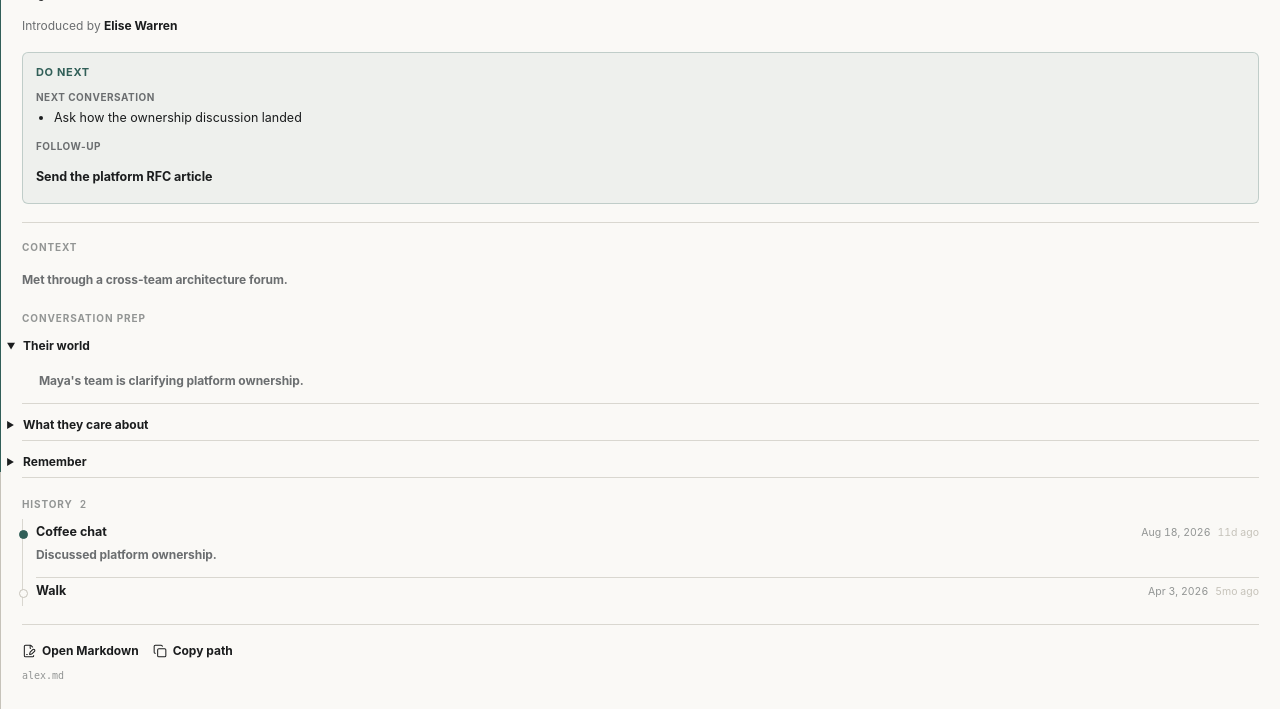
Test case: PersonDetail › copies the absolute source path and announces success
(page scrolled)
Step 1. Click the button "Copy path" → click(193, 651), box [153, 643, 233, 659]
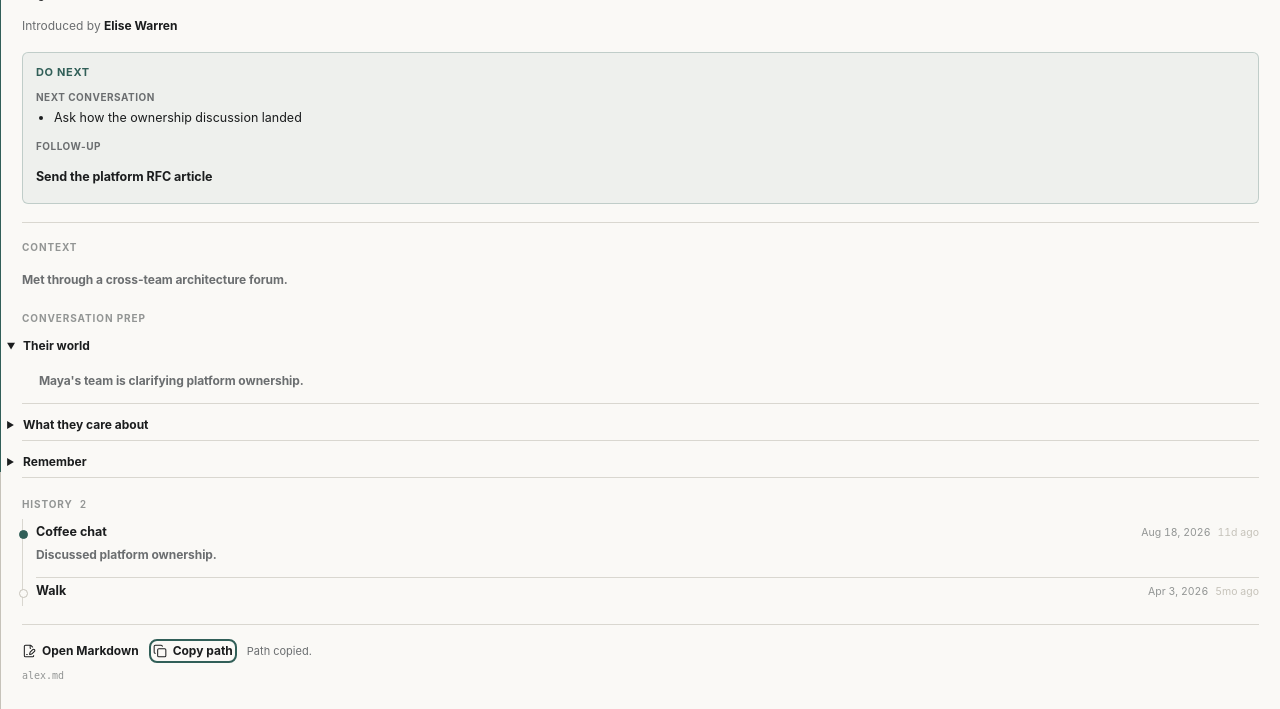
Expected: the text "Path copied." is shown, [247, 644, 312, 658]
